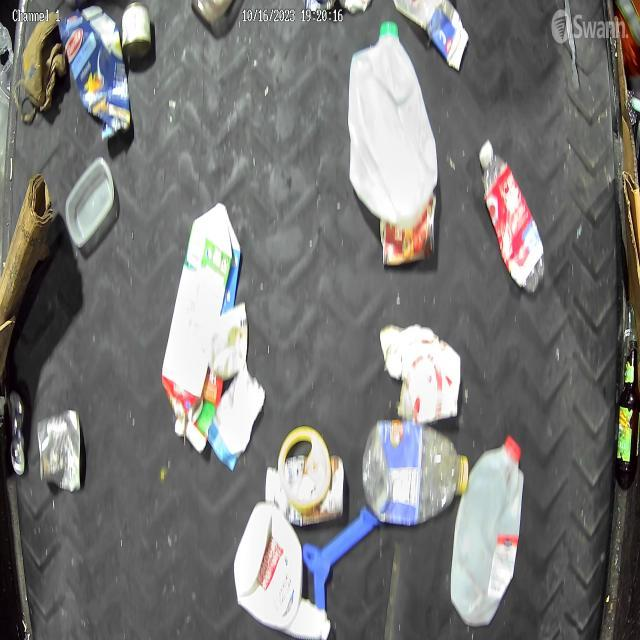can: (378, 191, 439, 265), (36, 410, 86, 496), (120, 0, 154, 64), (10, 389, 28, 478)
milk_jug: (346, 17, 439, 226), (448, 435, 524, 628)
plastic_bottle: (361, 419, 470, 528), (477, 135, 547, 298)
